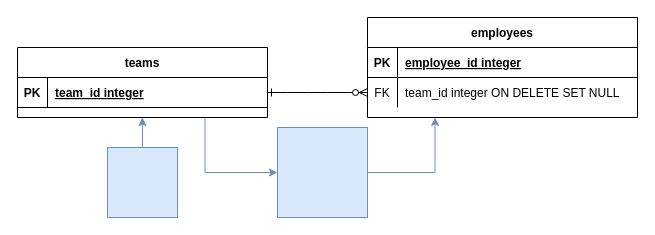
Image size: 655x235. Some labels were removed from this diagram. Here are the shapes that lost their labels. From the top down, the centre of each, then its label:
At (x=142, y=182): "DELETE X".
At (x=322, y=172): "UPDATE SET X = NULL".
